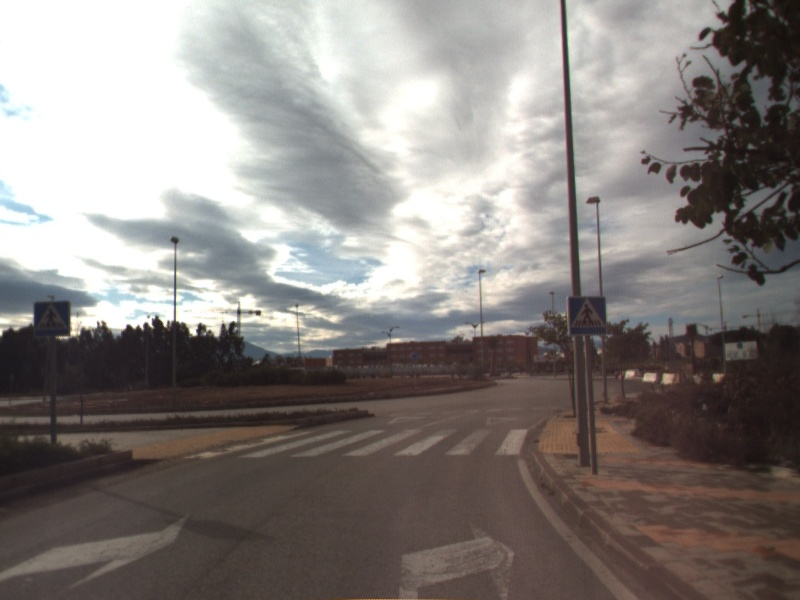RIGHT: (1, 509, 192, 591), (395, 516, 517, 600)
